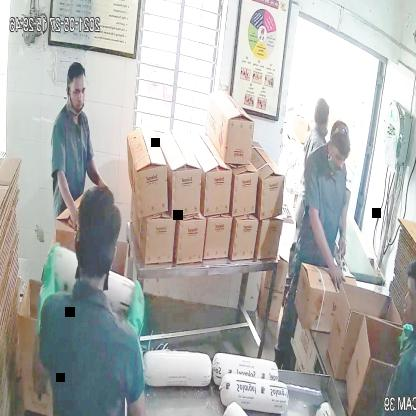no_goggles: (64, 82, 89, 102)
